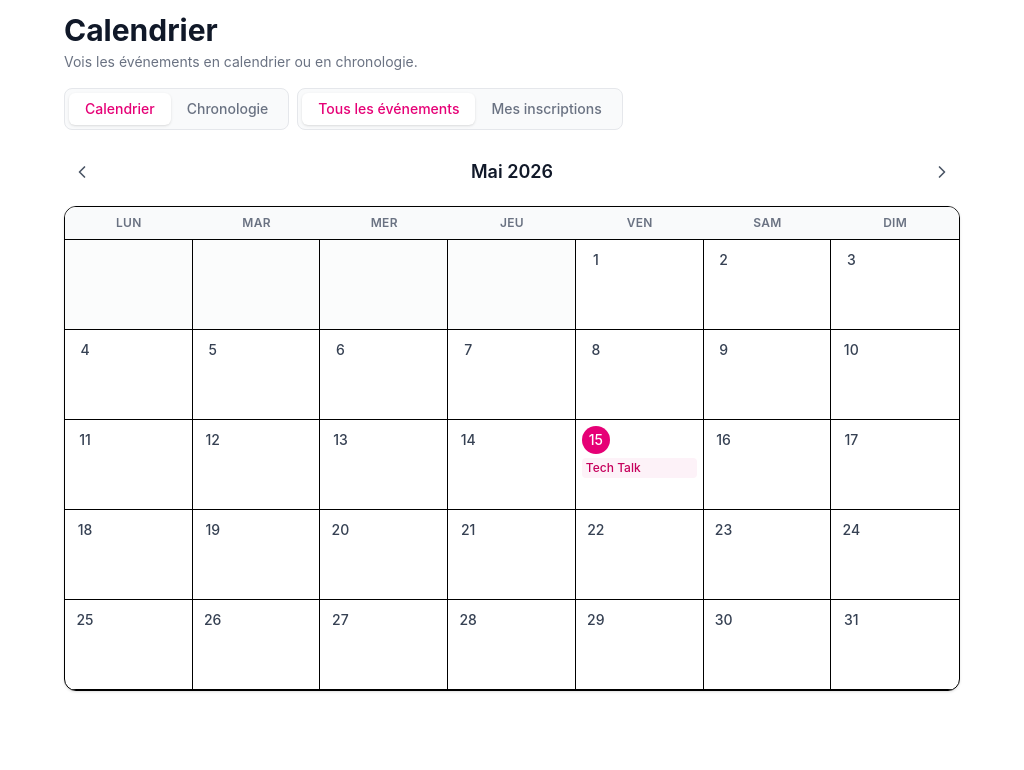
Scenario: CalendarPage › resets the selected day when switching view
expect the text "Tech Talk" is shown: met, box x1=582 y1=458 x2=696 y2=478
Click the button "15 Tech Talk" at (640, 465), box x1=576 y1=420 x2=704 y2=510
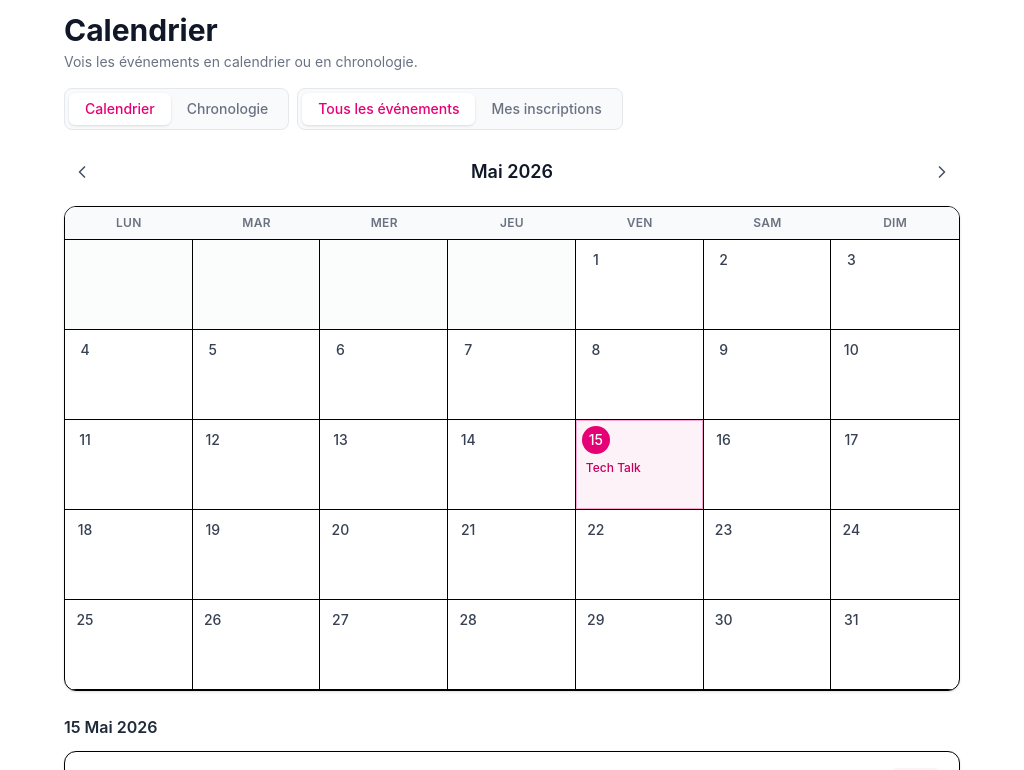
expect the heading "15 Mai 2026" is shown: met, box x1=64 y1=717 x2=158 y2=737
Click the button "Tous les événements" at (389, 109), box x1=302 y1=93 x2=475 y2=125
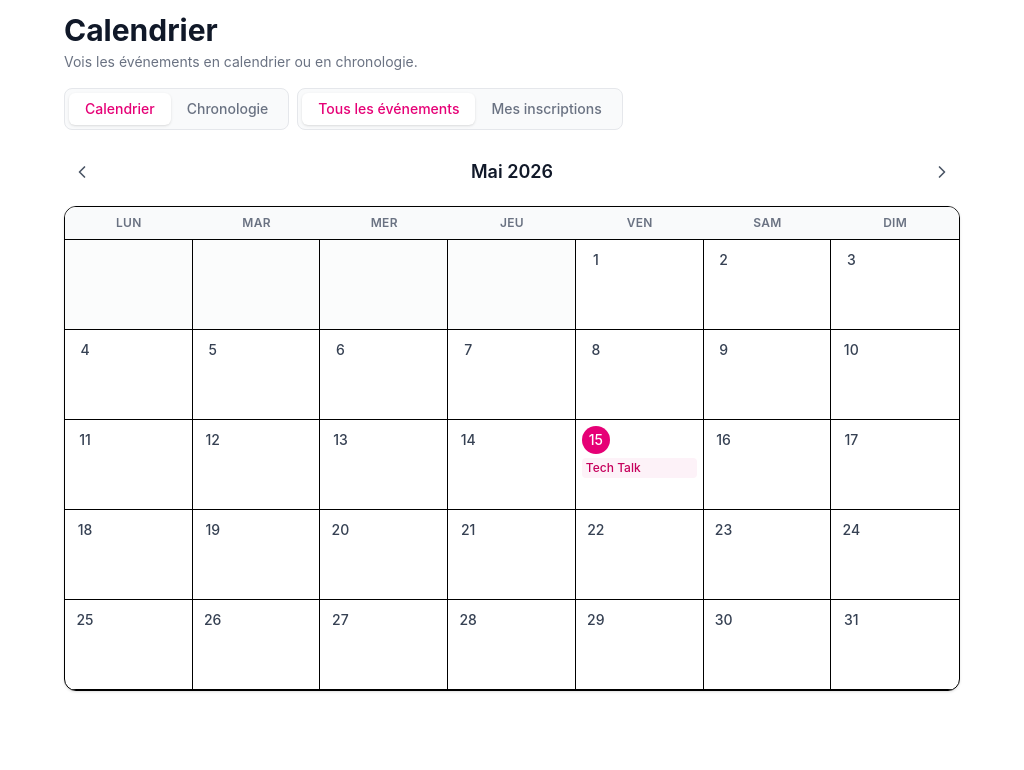
expect the heading "15 Mai 2026" is gone: met
